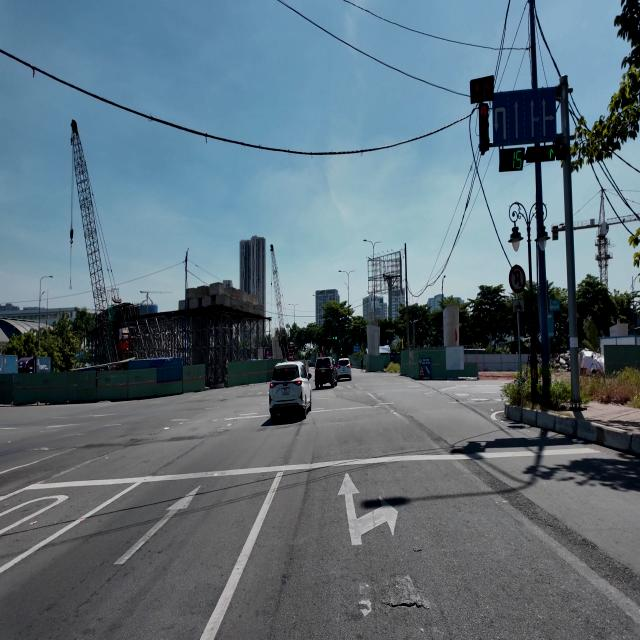car: (270, 362, 311, 421), (315, 357, 337, 389), (337, 358, 351, 381)
